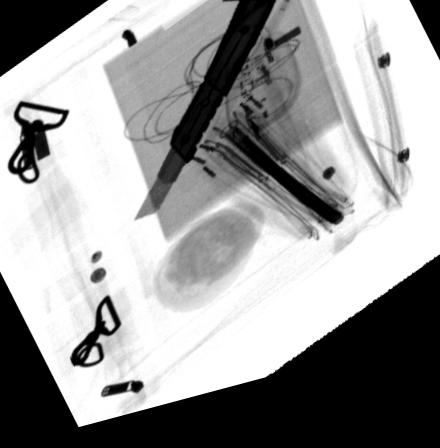Knife: (132, 0, 279, 228)
